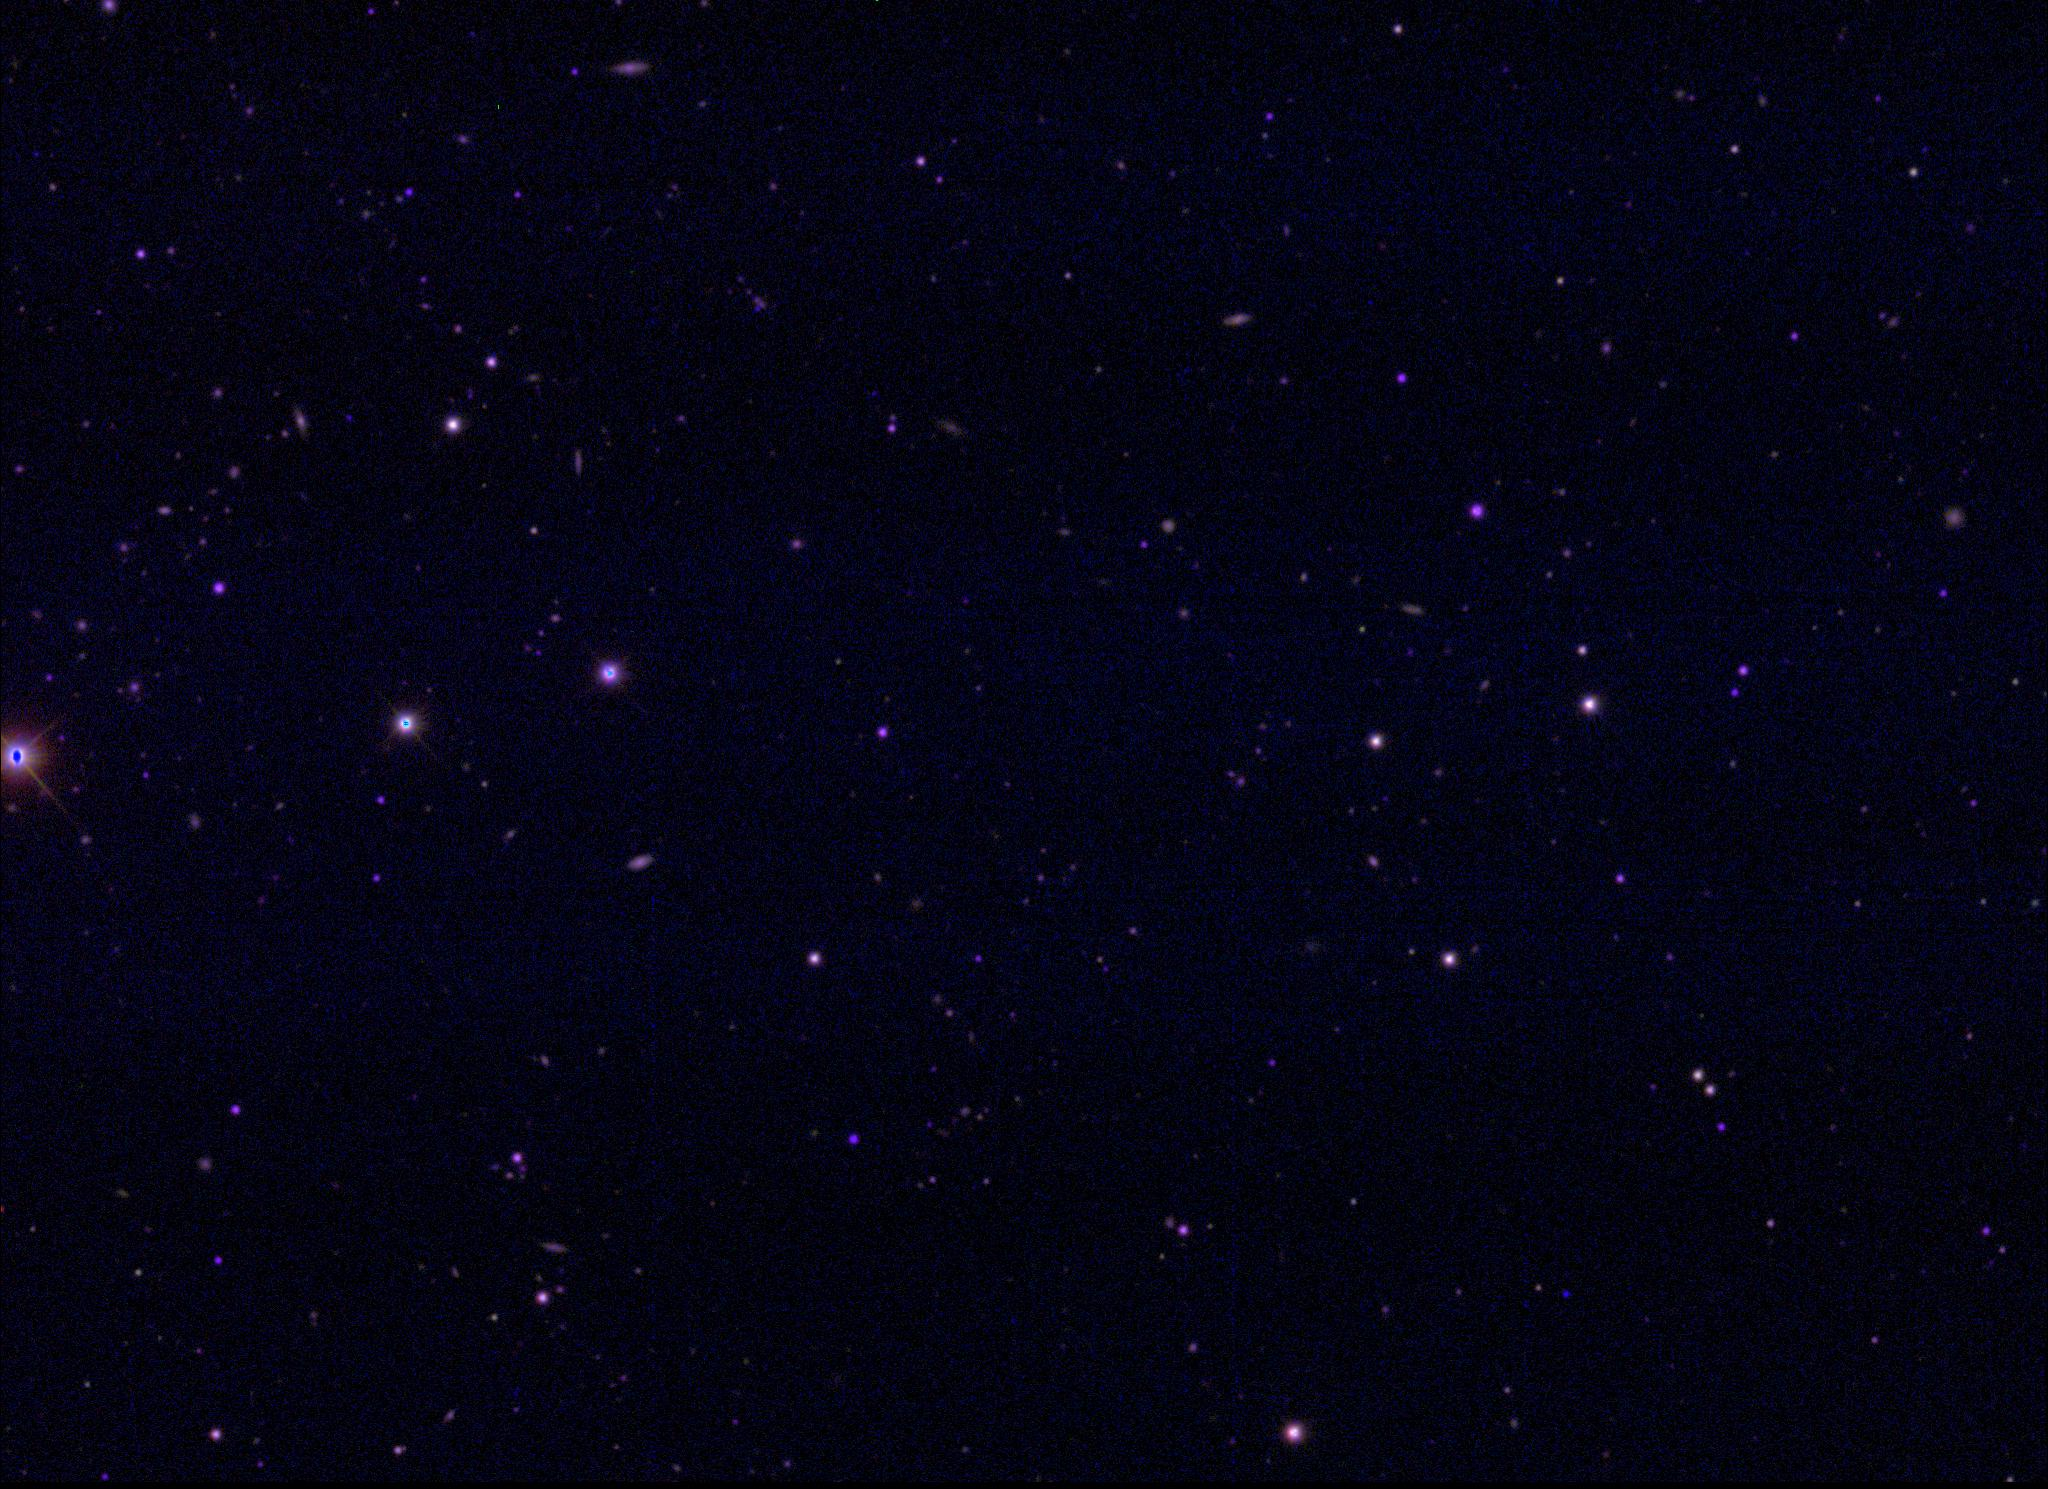L: (1558, 1287, 1573, 1301)
